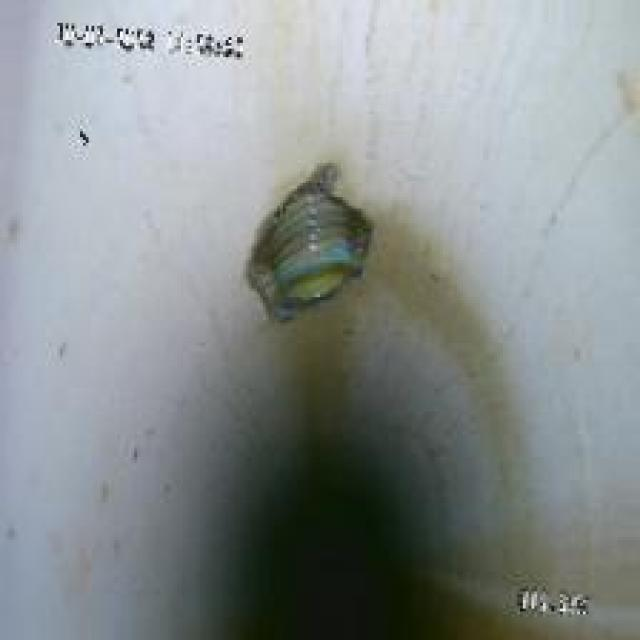ferrule: (246, 183, 363, 308)
